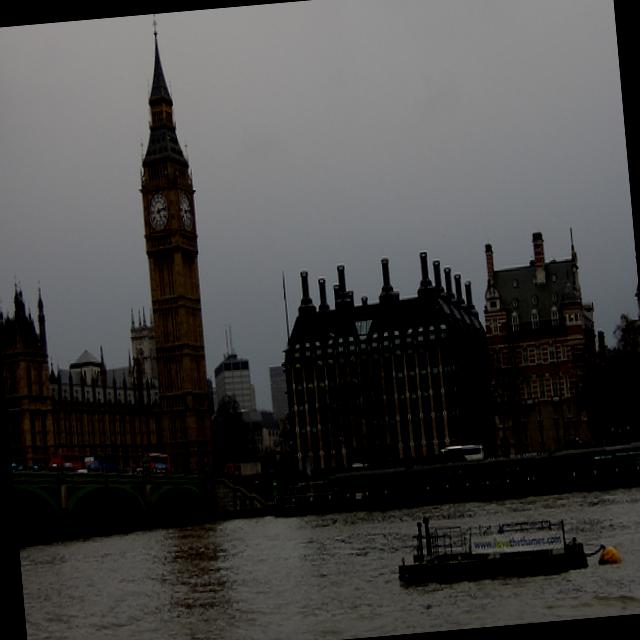Vehicle: (439, 442, 485, 462), (49, 448, 82, 472), (148, 452, 170, 475)
